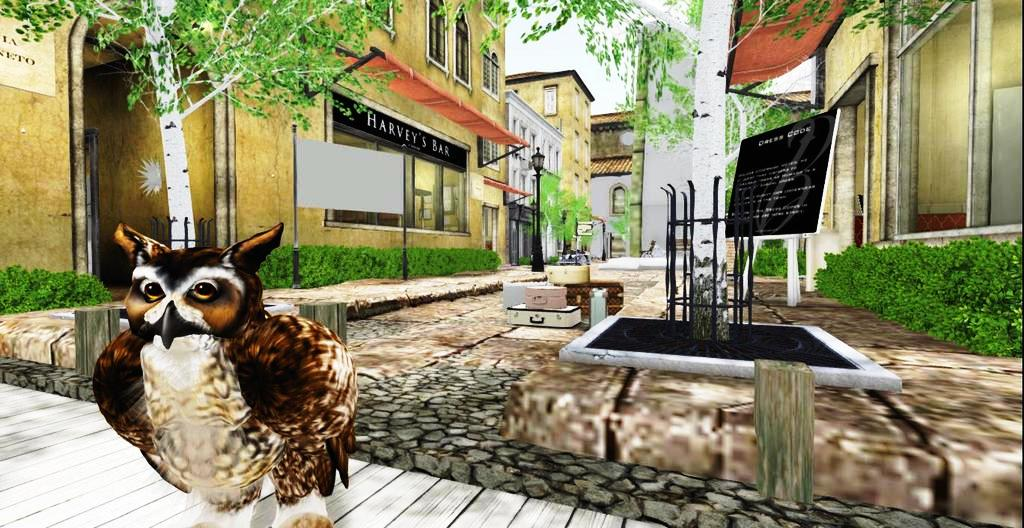Owl: (92, 218, 361, 527)
